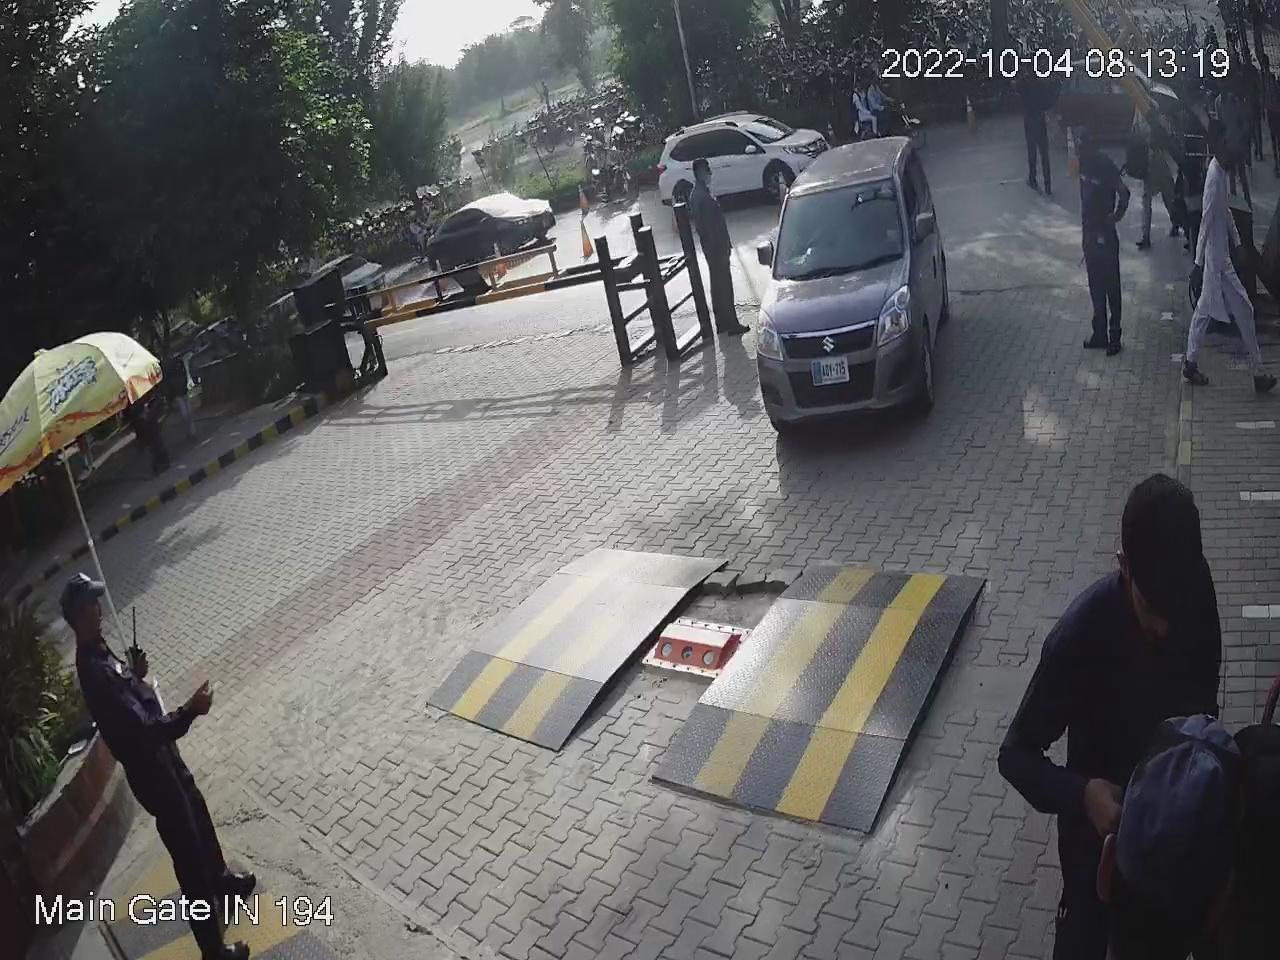windshield: (775, 167, 903, 275)
